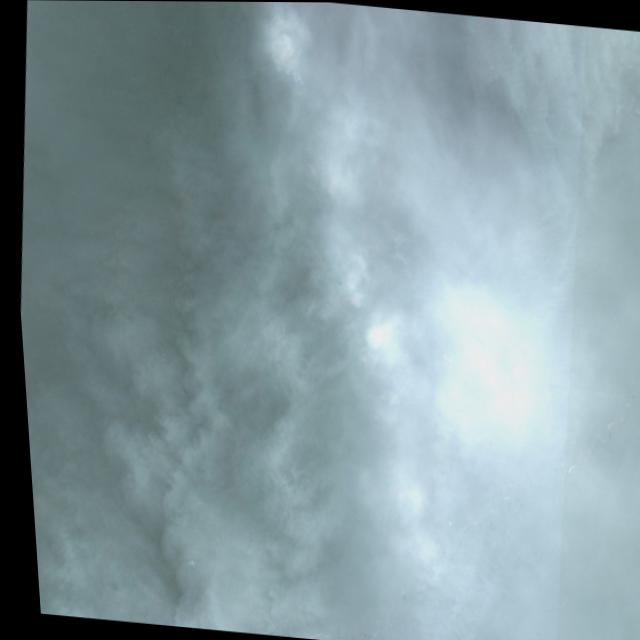fire: (218, 21, 474, 568)
